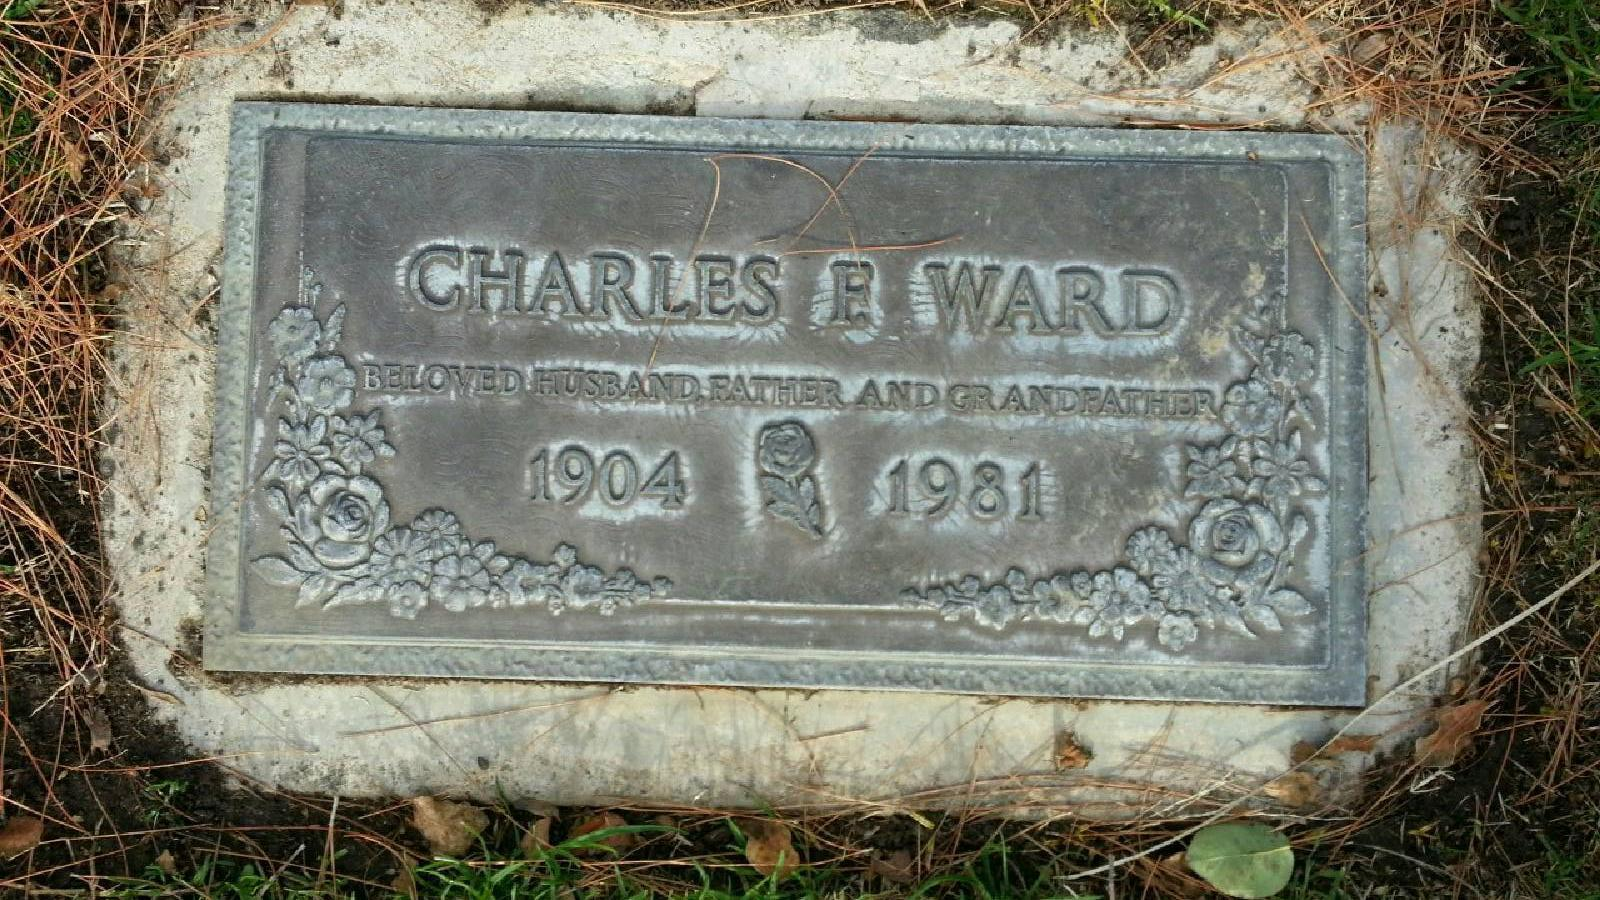flat: (129, 8, 1467, 792)
